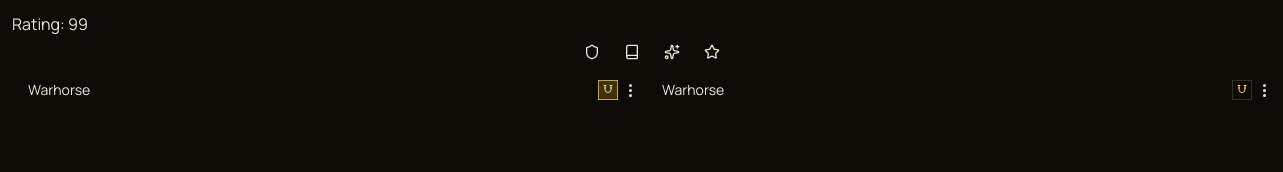
Test: item rows: the companion switch › shows the answer's warnings (warn, never block)
What coordinates should you click on to do the following:
click the button named "Warhorse: Ride it"
I would click on:
 (1242, 90)
Its box is [1232,80,1252,100].
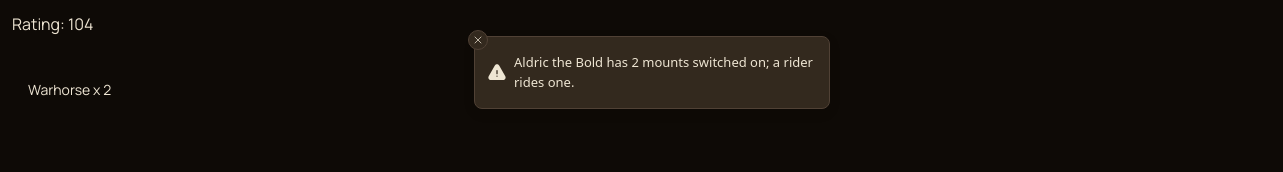
Expected: the text "Aldric the Bold has 2 mounts switched on; a rider rides one." is shown, [514,53,813,92]
